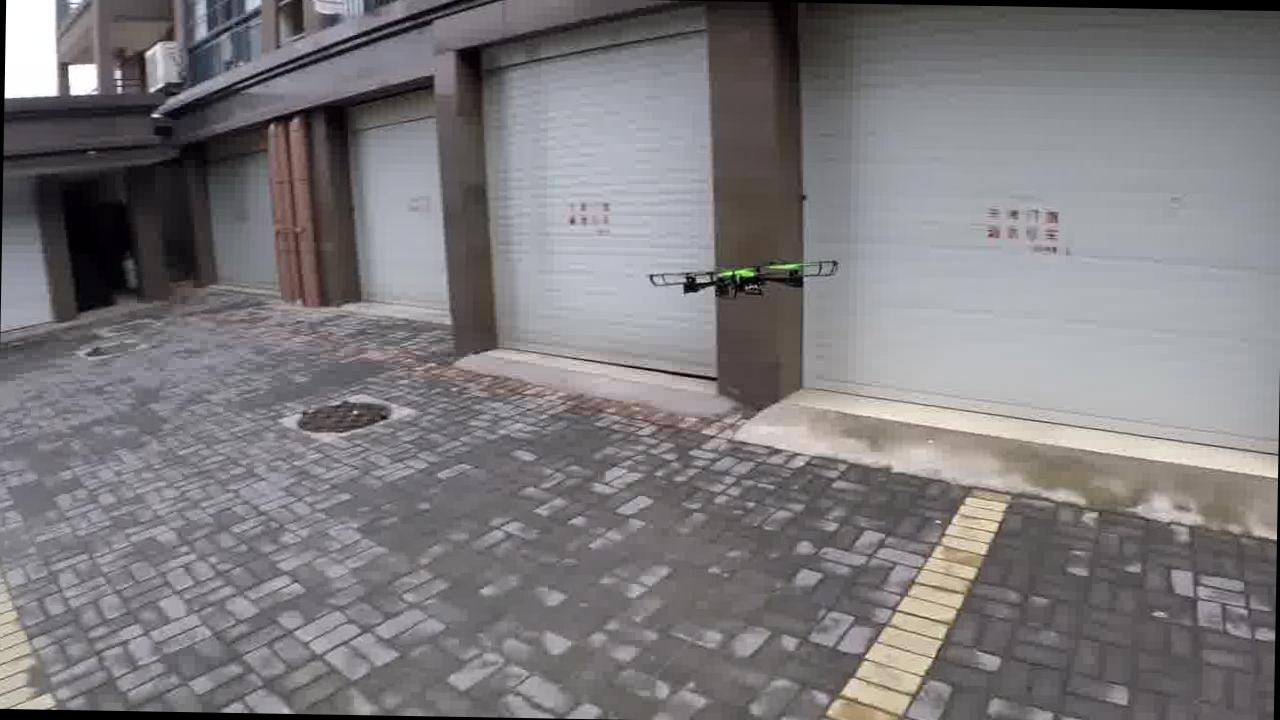drone: (610, 233, 846, 334)
